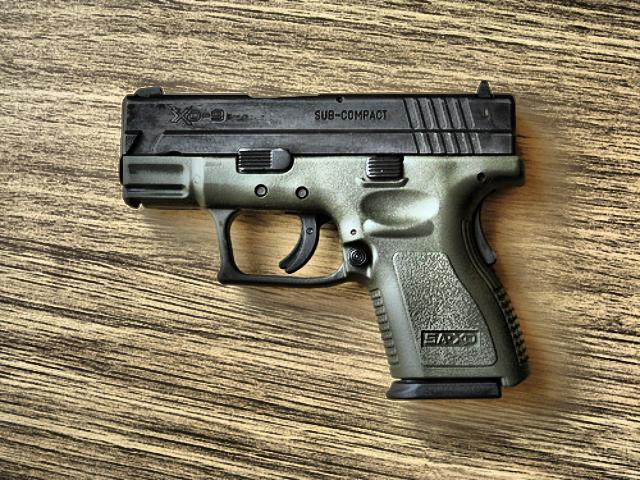pistol: (116, 80, 532, 402)
